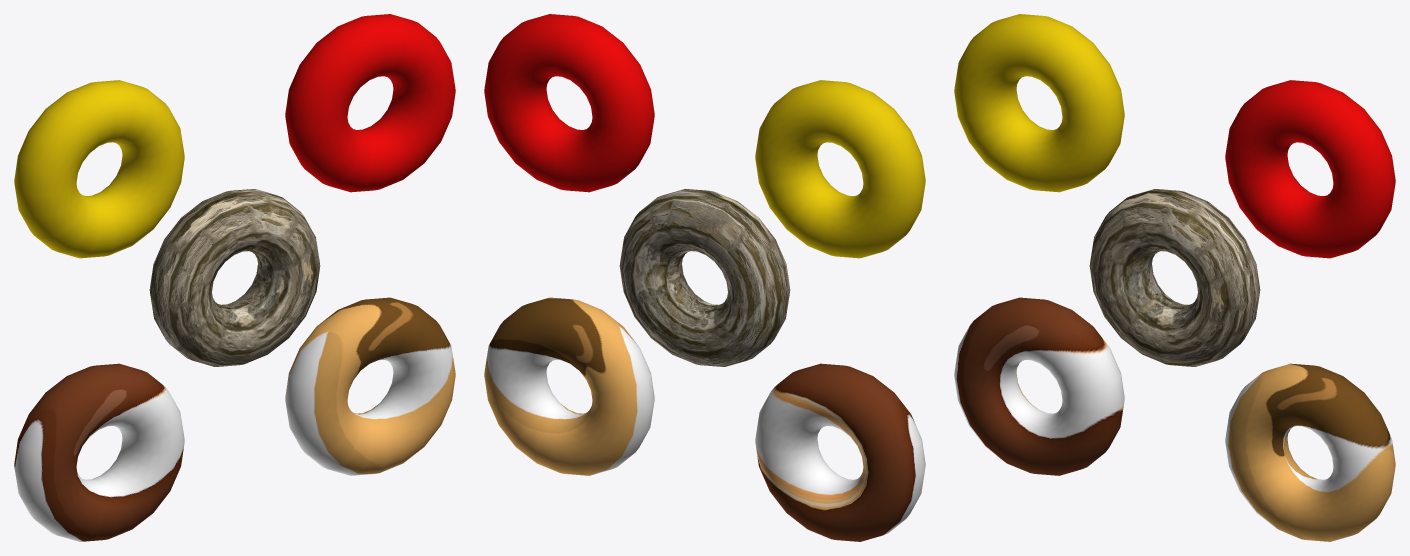
Rendered from Ball5.fbx.
The picture shows the model from 3 angles, left to right: view 1: azimuth 30°, elevation 25°; view 2: azimuth 150°, elevation 25°; view 3: azimuth 330°, elevation 25°; orthographic projection.
Visible parts, largest first — view 1: pTorus6; view 2: pTorus6; view 3: pTorus6.
Boxes of the visible parts, x1,y1,x2,y2 form: pTorus6: [14, 14, 455, 541]; pTorus6: [484, 14, 925, 541]; pTorus6: [954, 14, 1395, 541].
Size of the model in its own units: 8 by 8 by 1.
